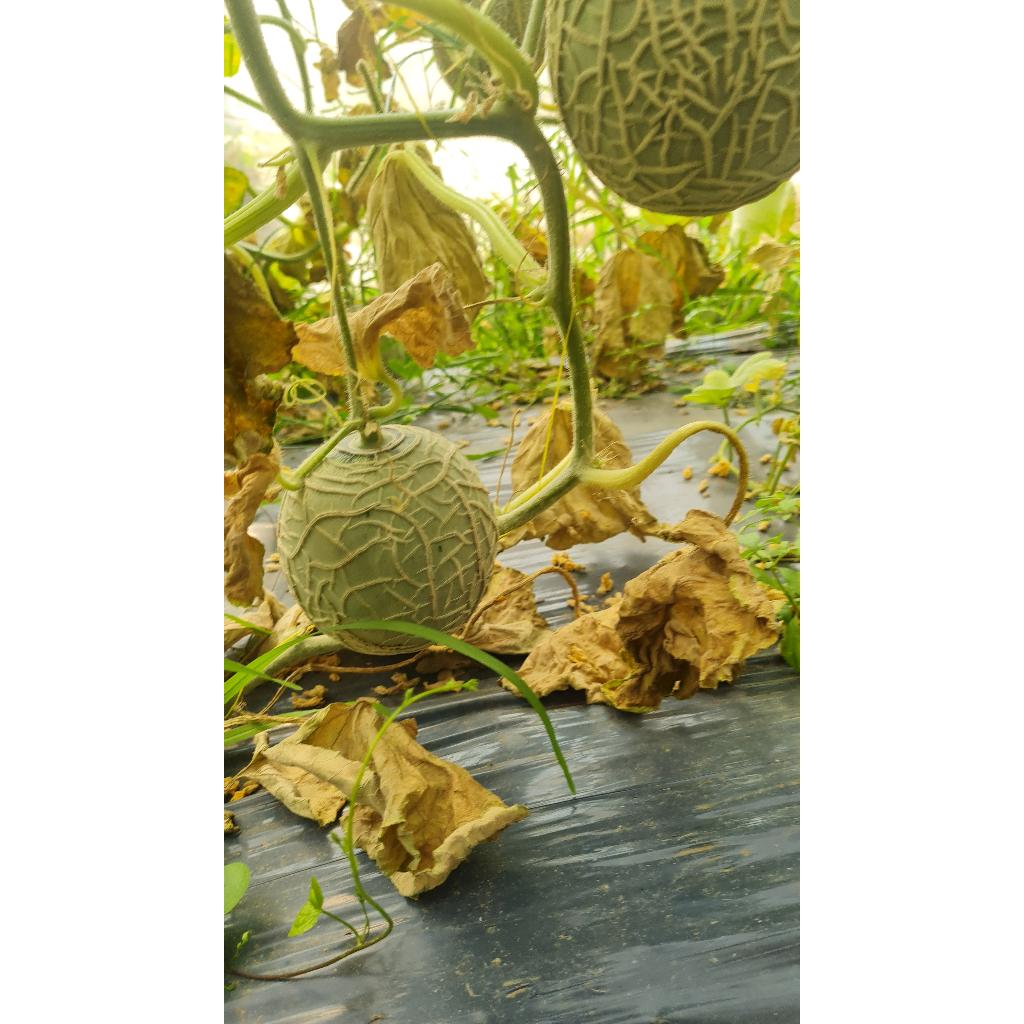melon: (546, 0, 800, 216), (278, 424, 498, 632)
